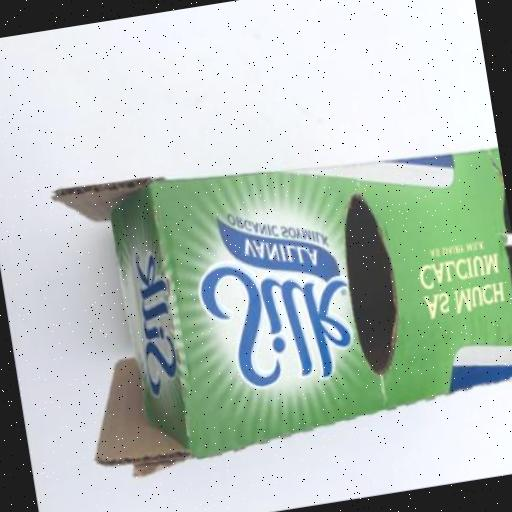cardboard: (50, 118, 512, 483), (80, 351, 193, 485), (52, 174, 154, 228)
